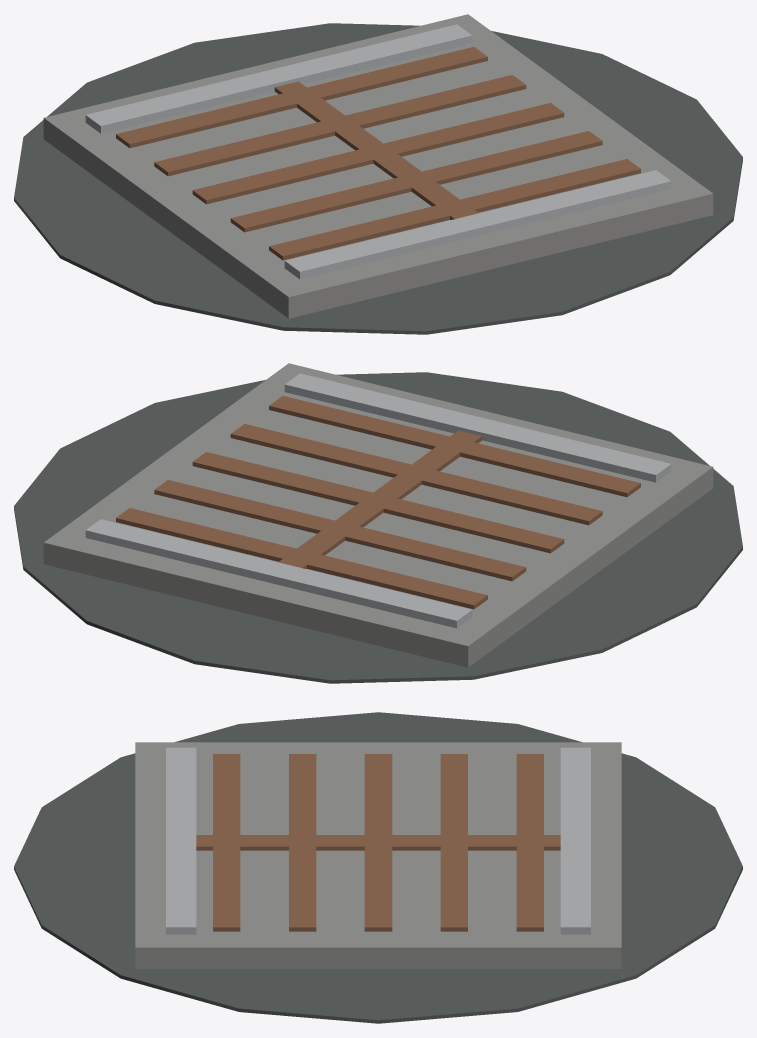
The model's file is Dress_DrainGrate.fbx.
3 views of the same model, one above another, from view 1: azimuth 30°, elevation 25°; view 2: azimuth 150°, elevation 25°; view 3: azimuth 270°, elevation 25° (orthographic).
Parts seen in each view (by area): view 1: Dress_DrainGrate; view 2: Dress_DrainGrate; view 3: Dress_DrainGrate.
Boxes of the visible parts, x1,y1,x2,y2 form: Dress_DrainGrate: (14,14,742,334); Dress_DrainGrate: (14,363,742,683); Dress_DrainGrate: (14,712,742,1023).
Bounding box in the file's own units: 96 × 4.7 × 96.
